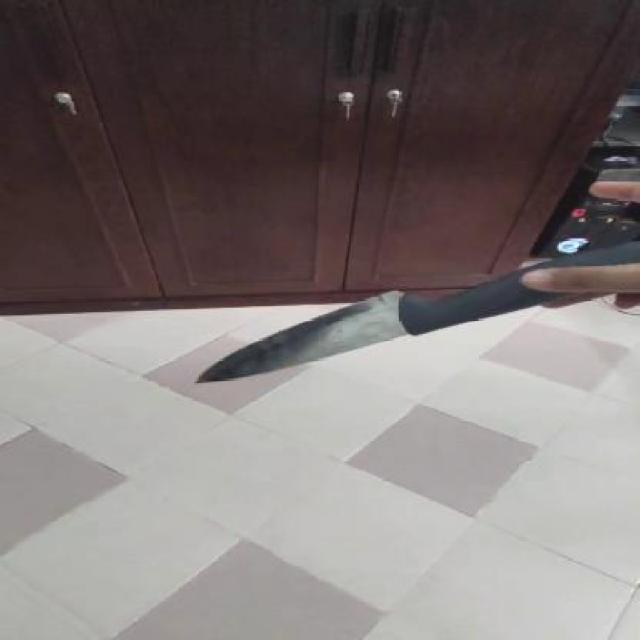knife: (191, 264, 474, 396)
